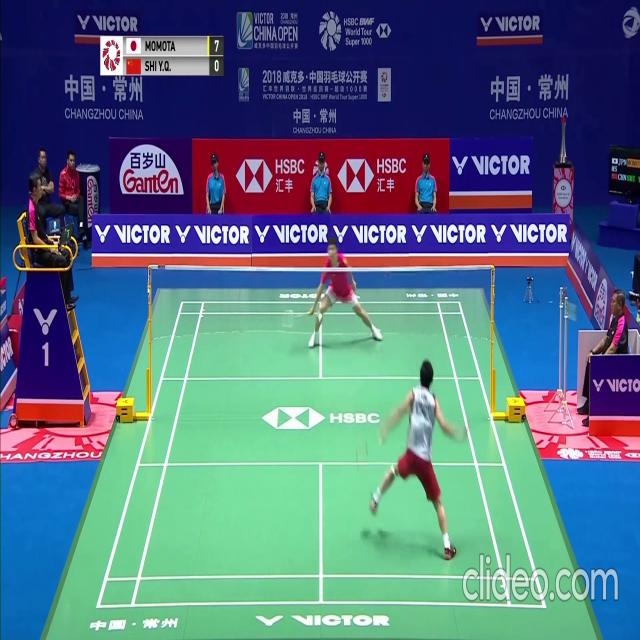Shuttlecock: (316, 312, 321, 320)
